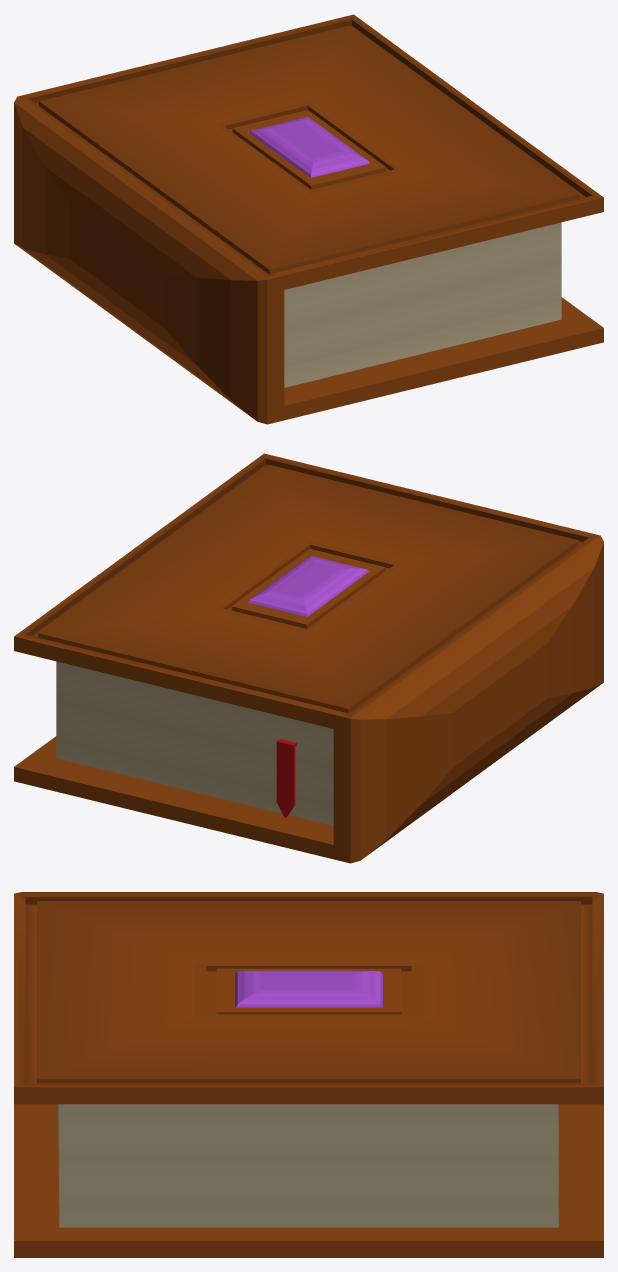
The model's file is Laboratorio.fbx_ManualArcano.fbx.
3 views of the same model, one above another, from view 1: azimuth 30°, elevation 25°; view 2: azimuth 150°, elevation 25°; view 3: azimuth 270°, elevation 25° (orthographic). The views are drawn at different scales.
Parts seen in each view (by area): view 1: ManualArcano, Gema; view 2: ManualArcano, Gema; view 3: ManualArcano, Gema.
Part boxes in pixels (x1,y1,x2,y2): ManualArcano: [14, 14, 603, 424]; Gema: [248, 116, 370, 177]; ManualArcano: [14, 453, 603, 863]; Gema: [247, 555, 369, 616]; ManualArcano: [14, 892, 603, 1257]; Gema: [235, 970, 382, 1007].
Size of the model in its own units: 25 by 10 by 30.
